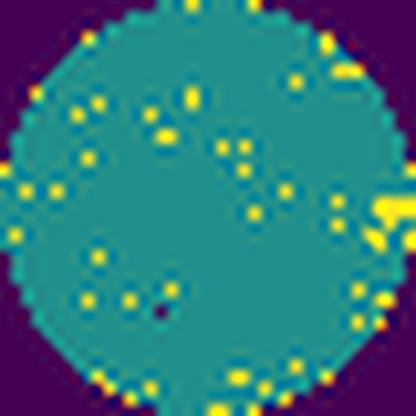Loc: (364, 191, 416, 224)
